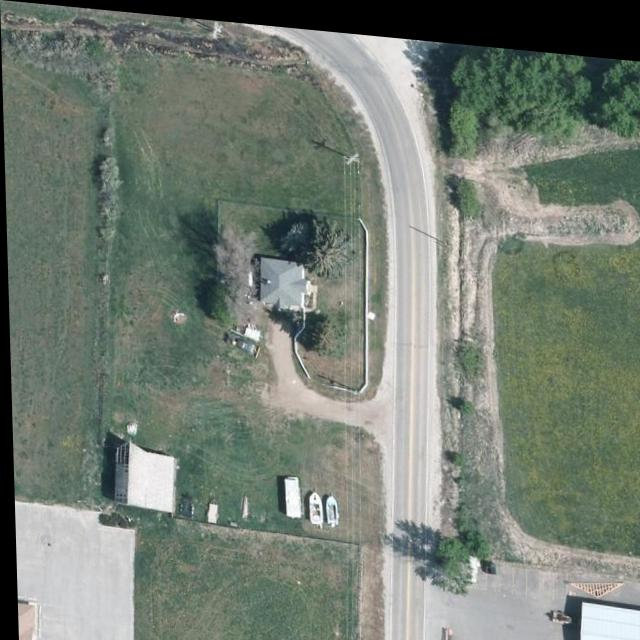vehicle: (222, 327, 254, 350)
